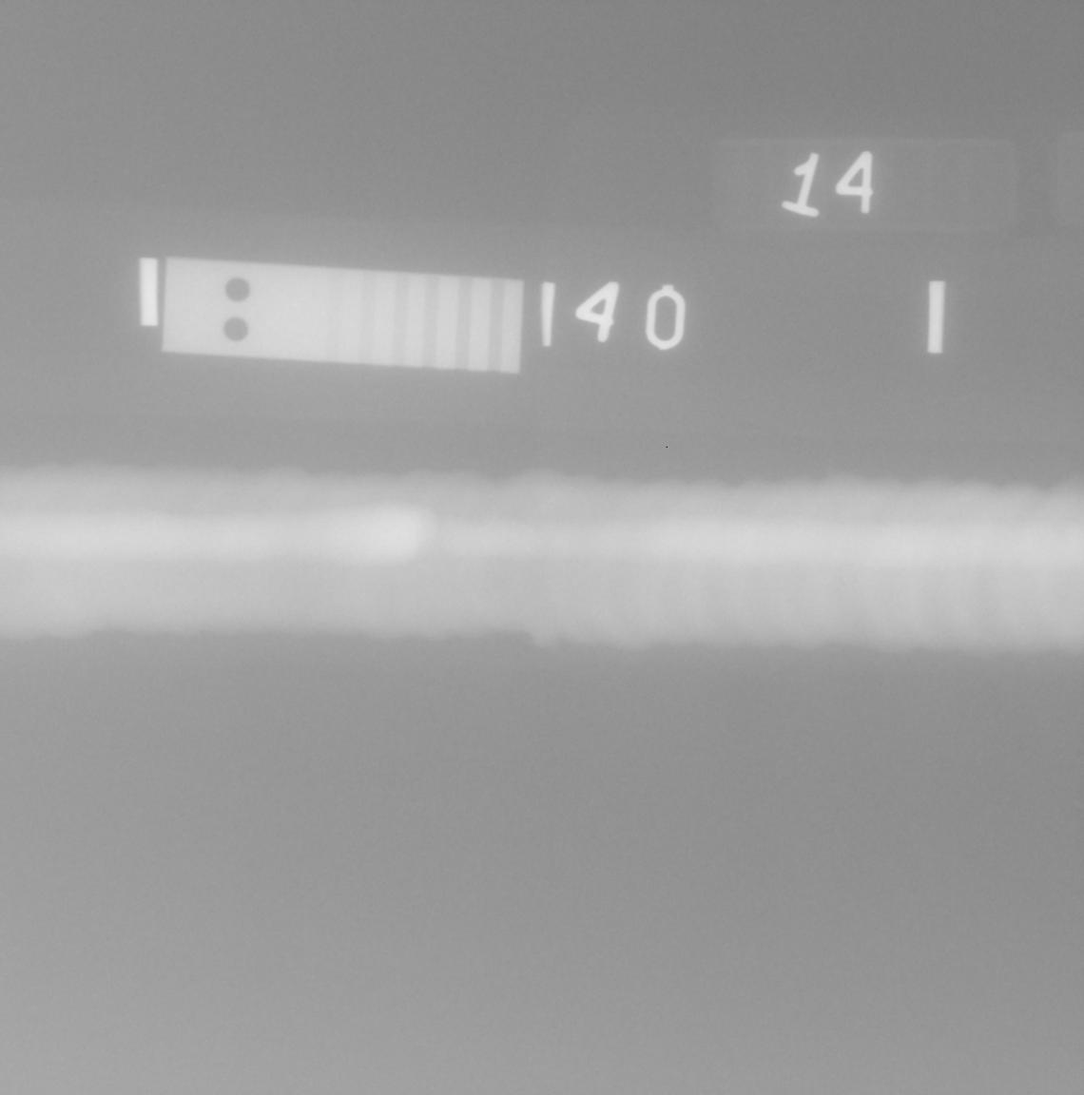Reference Standard 2: (161, 257, 525, 376)
